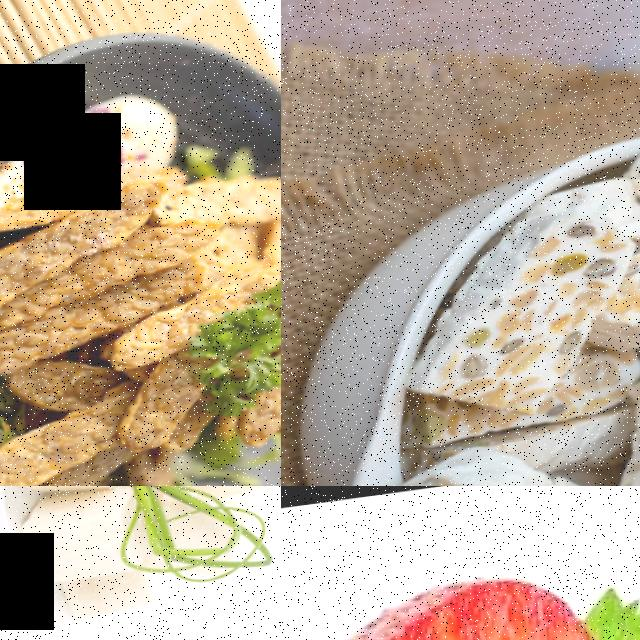strawberry: (281, 554, 640, 640)
tempeh: (414, 204, 640, 415), (397, 447, 586, 486)
tofu: (19, 490, 136, 587)
